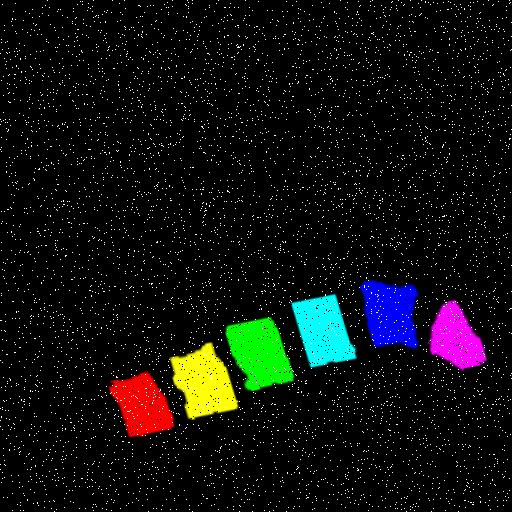L1: (104, 370, 169, 435)
L2: (167, 342, 234, 416)
L3: (222, 313, 289, 387)
L4: (287, 290, 352, 363)
L5: (358, 276, 415, 343)
S1: (425, 294, 482, 363)
